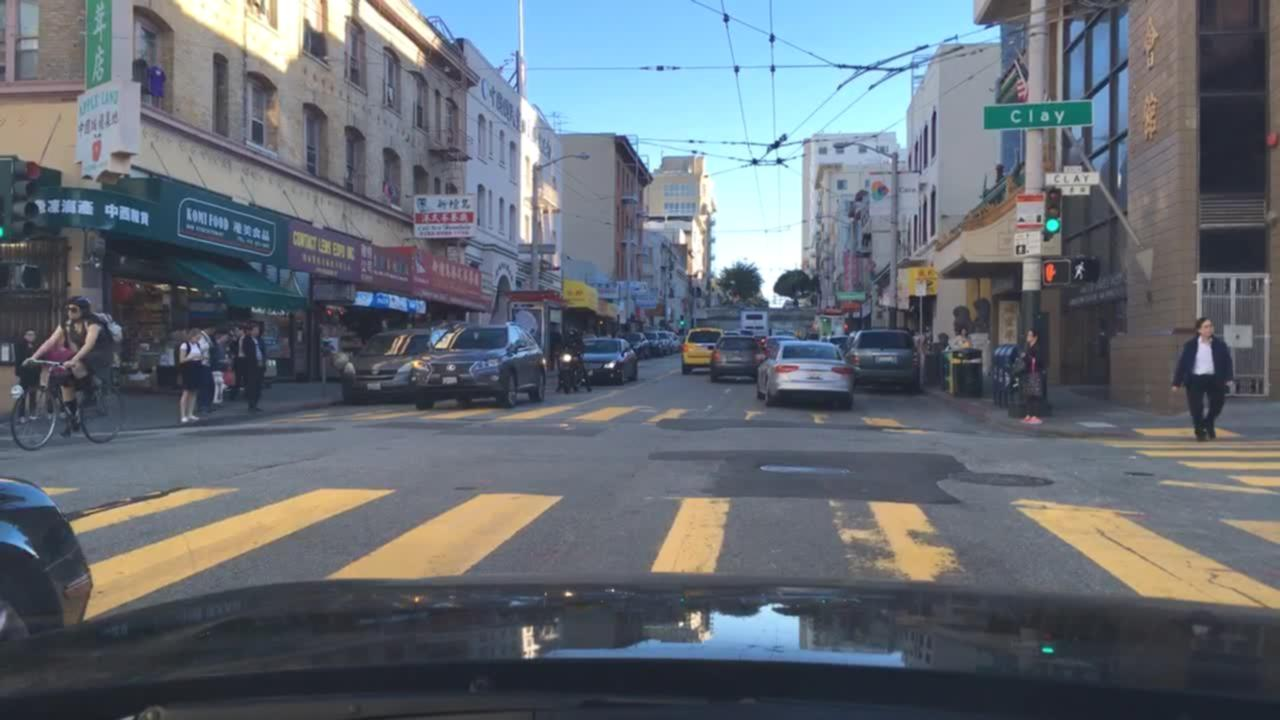chevrolet: (370, 370, 380, 375)
lexus: (444, 361, 458, 373)
